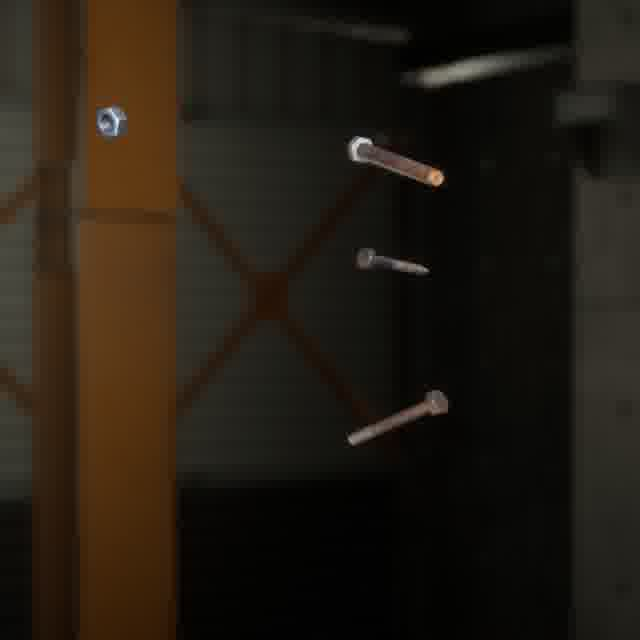bolt: (343, 385, 452, 450), (342, 131, 448, 190), (351, 243, 432, 278)
nut: (90, 101, 131, 143)
